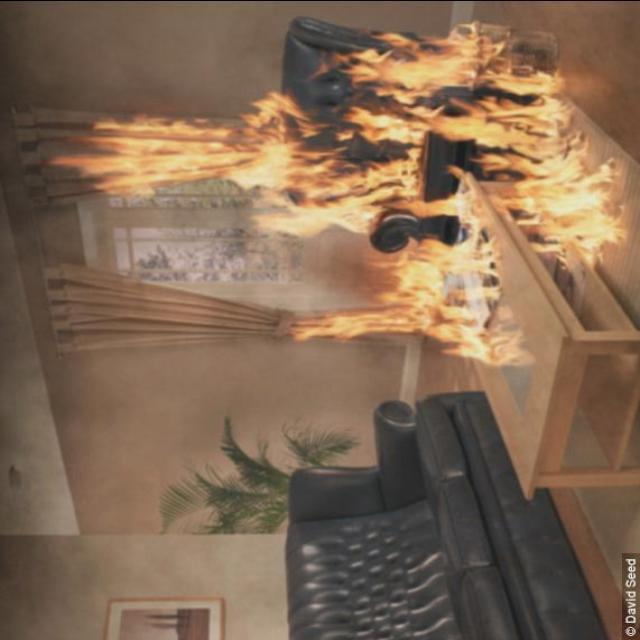Fire: (248, 19, 632, 371), (42, 102, 244, 211)
